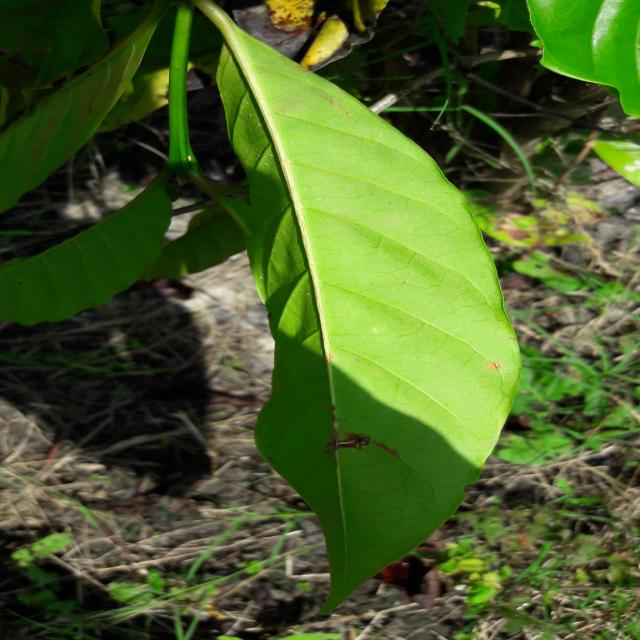Plaga-AranaRoja: (188, 0, 521, 618)
